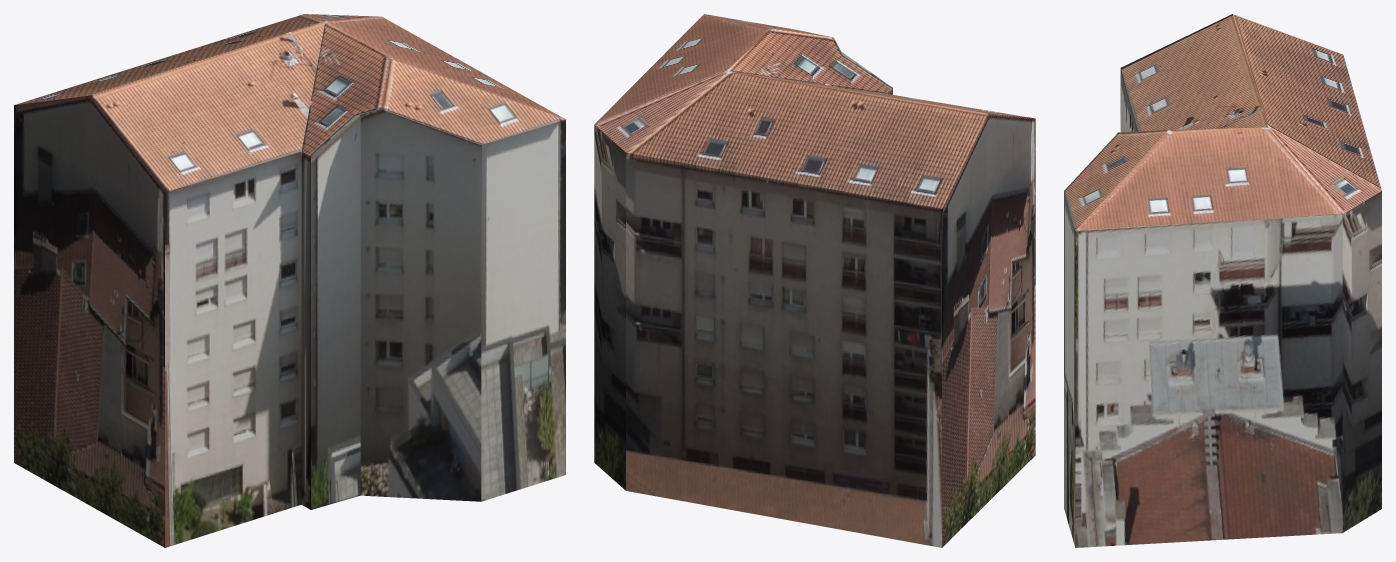
3 views of the same model, side by side, from view 1: azimuth 30°, elevation 25°; view 2: azimuth 150°, elevation 25°; view 3: azimuth 270°, elevation 25° (orthographic). The views are drawn at different scales.
Visible parts, largest first — view 1: Z_UP; view 2: Z_UP; view 3: Z_UP.
Boxes of the visible parts, x1,y1,x2,y2 form: Z_UP: (14,14,565,547); Z_UP: (594,14,1035,547); Z_UP: (1064,14,1381,547).
Size of the model in its own units: 24.97 by 24.34 by 19.2.
2 materials, 1 textured.
